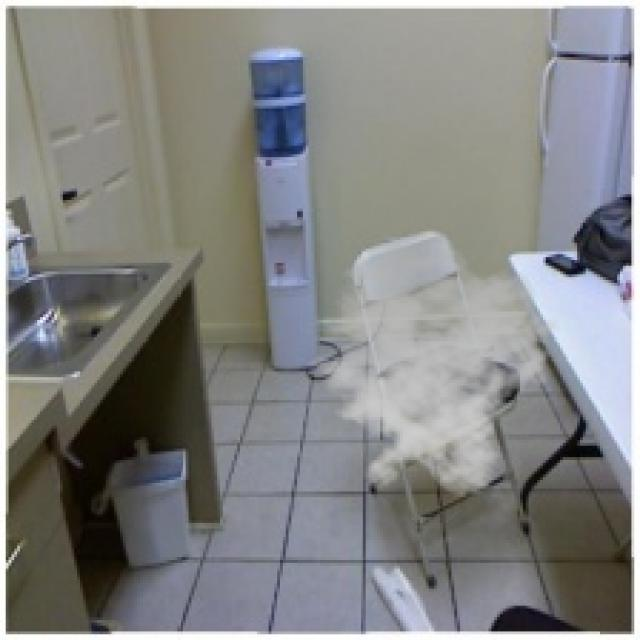smoke: (291, 234, 560, 497)
